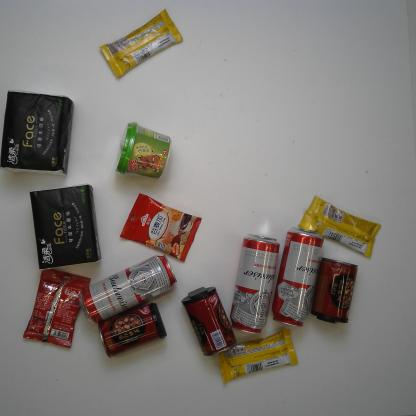Alcohol: (80, 254, 177, 325), (272, 225, 324, 328), (230, 234, 279, 335)
Canned Food: (181, 286, 237, 357), (98, 301, 167, 358), (310, 258, 358, 323)
Chocolate: (100, 9, 184, 78), (298, 195, 382, 258), (214, 326, 299, 384)
Instant Drink: (120, 192, 201, 261), (23, 268, 91, 347), (114, 122, 172, 179)
Tissue: (30, 183, 102, 270), (0, 91, 74, 175)
